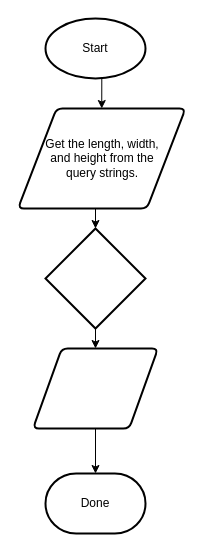
The diagram is 204 pixels wide and 551 high, and some of its shapes have lost their labels. Each missing label, with the box of its shape:
Print("Volume is: volume cm^3"): (32, 347, 158, 429)
V = l*w*h: (44, 227, 146, 329)
